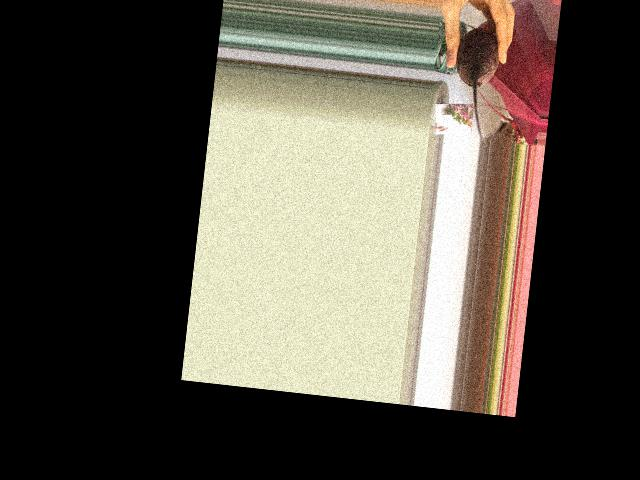beet: (447, 24, 502, 142)
